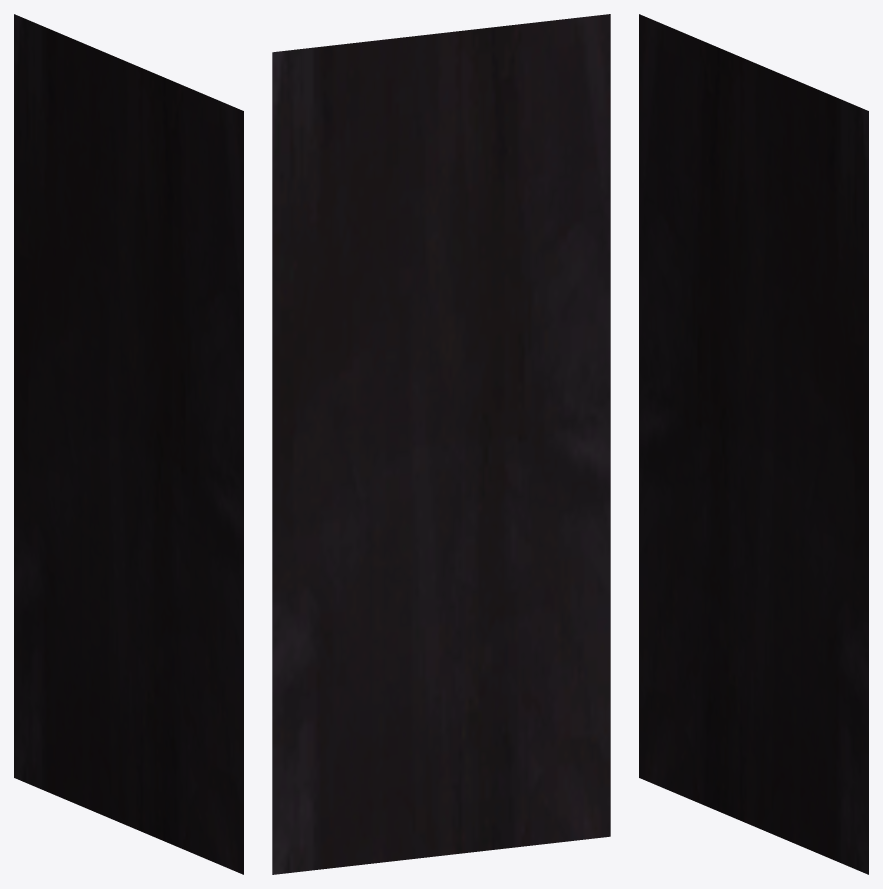
File: cave_quarter_convex_01.fbx
The picture shows the model from 3 angles, left to right: view 1: azimuth 90°, elevation 25°; view 2: azimuth 150°, elevation 25°; view 3: azimuth 270°, elevation 25°; orthographic projection. The views are drawn at different scales.
Parts seen in each view (by area): view 1: cave_tileset/wall01_quarter_mat; view 2: cave_tileset/wall01_quarter_mat; view 3: cave_tileset/wall01_quarter_mat.
Part boxes in pixels (bbox=[...]): cave_tileset/wall01_quarter_mat: bbox=[14, 14, 243, 874]; cave_tileset/wall01_quarter_mat: bbox=[272, 14, 610, 874]; cave_tileset/wall01_quarter_mat: bbox=[639, 14, 868, 874].
Bounding box in the file's own units: 0.375 × 1.38 × 0.375.
